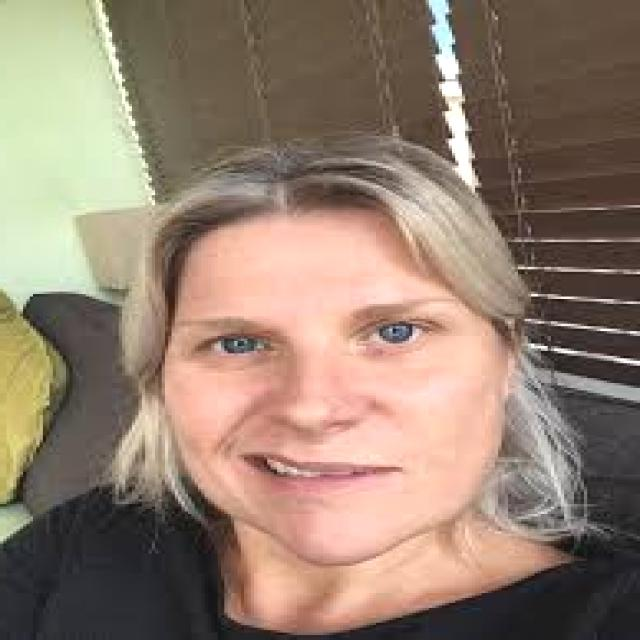stroke_face: (127, 141, 522, 568)
